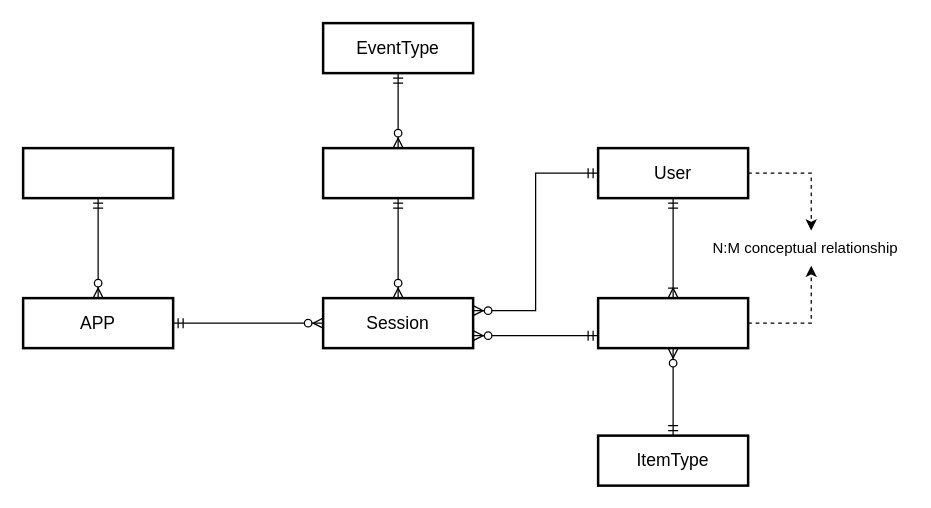
Some shapes in this 931 by 508 pixel diagram are drawn without their labels. The centre of each missing label's shape, as x and y in pixels:
Enviroment: pixel 97 172
Event: pixel 397 172
Item: pixel 672 322
